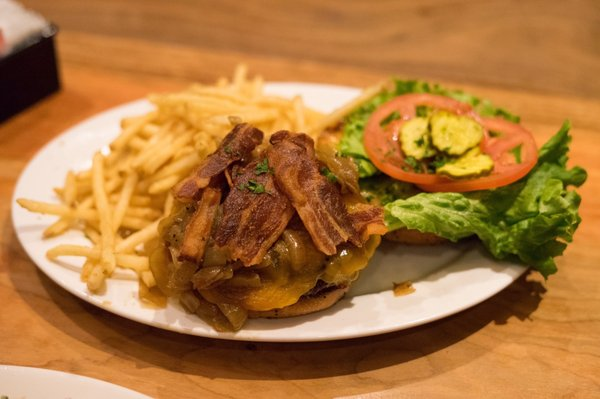soup: (160, 122, 388, 326)
